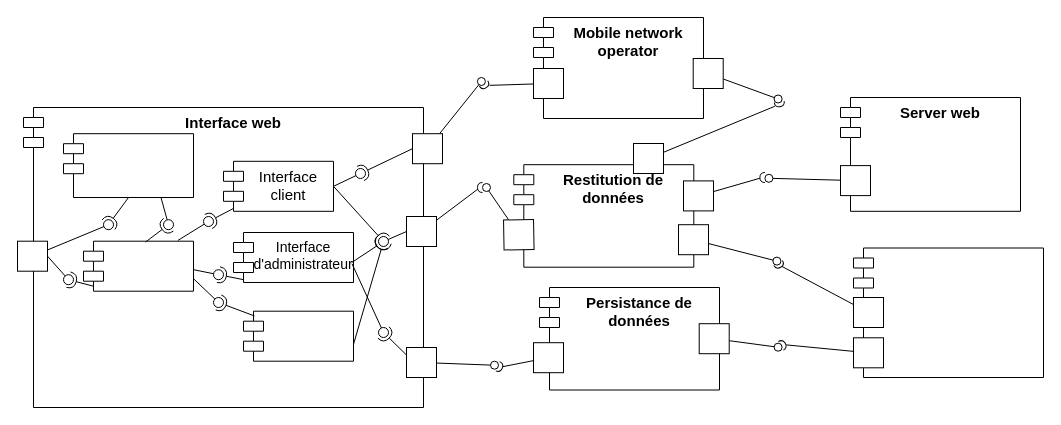
This 1061x425 diagram has some shape labels left out. The box of each missing label's shape, as (x1, y1, x2, y2) in pixels:
Interface de connexion: (82, 240, 194, 291)
Interface de création de compte: (62, 133, 194, 198)
Interface des membres: (242, 310, 354, 361)
PostbreSQL web: (852, 247, 1044, 378)
